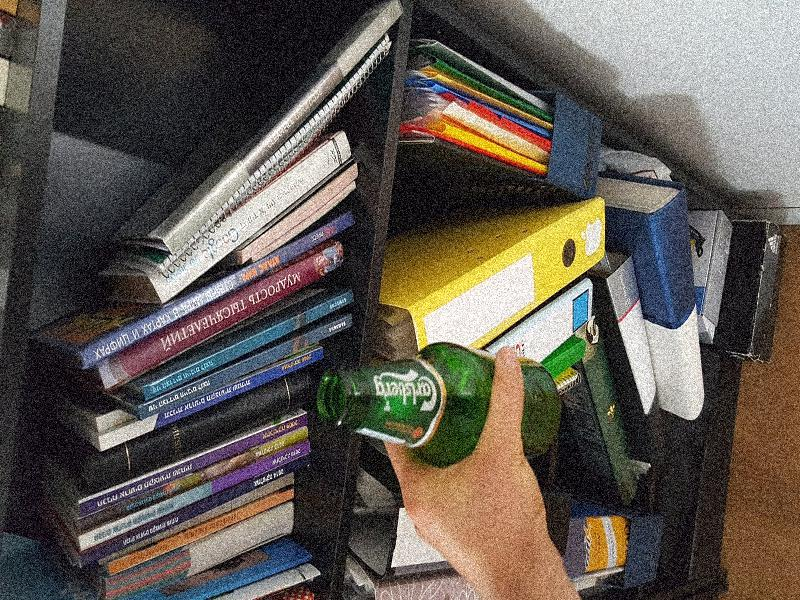Beer: (317, 344, 563, 462)
